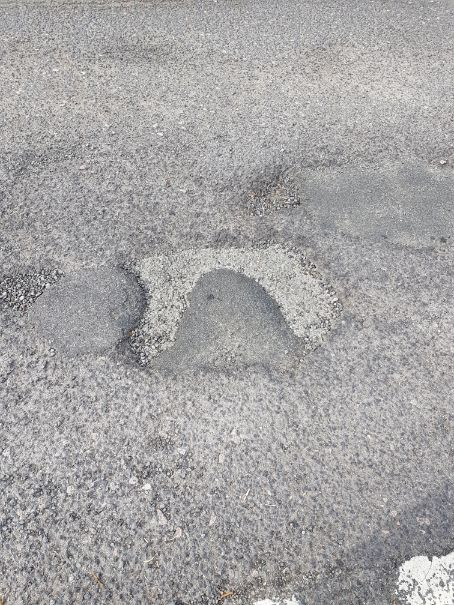pothole: (111, 235, 352, 366)
